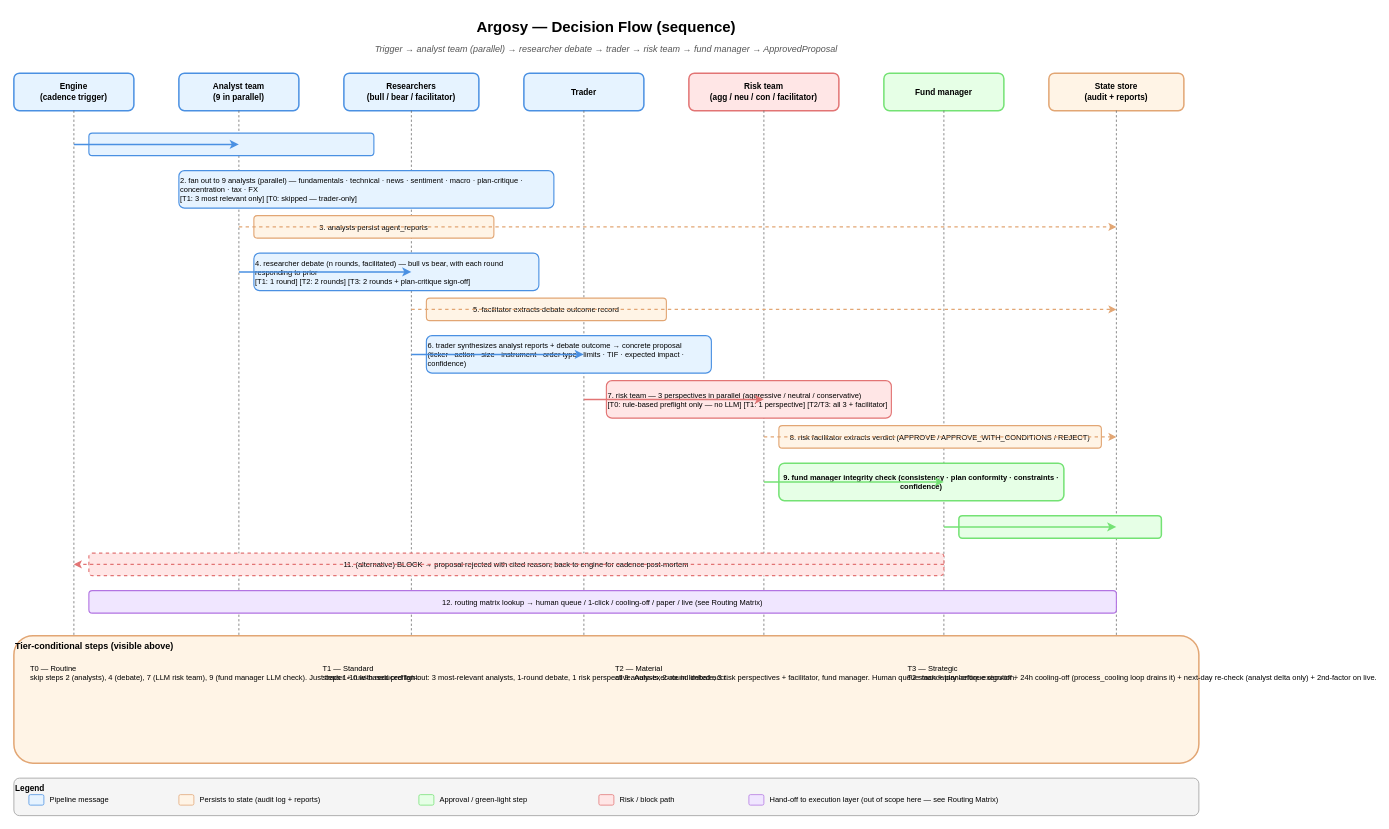
This 1389x829 diagram has some shape labels left out. The centre of each missing label's shape, as x and y in pixels:
"1. trigger fires → invoke decision flow (tier T0–T3)" belongs at (x=231, y=144).
"10. GREEN_LIGHT → ApprovedProposal lands in proposals queue" belongs at (x=1060, y=526).
